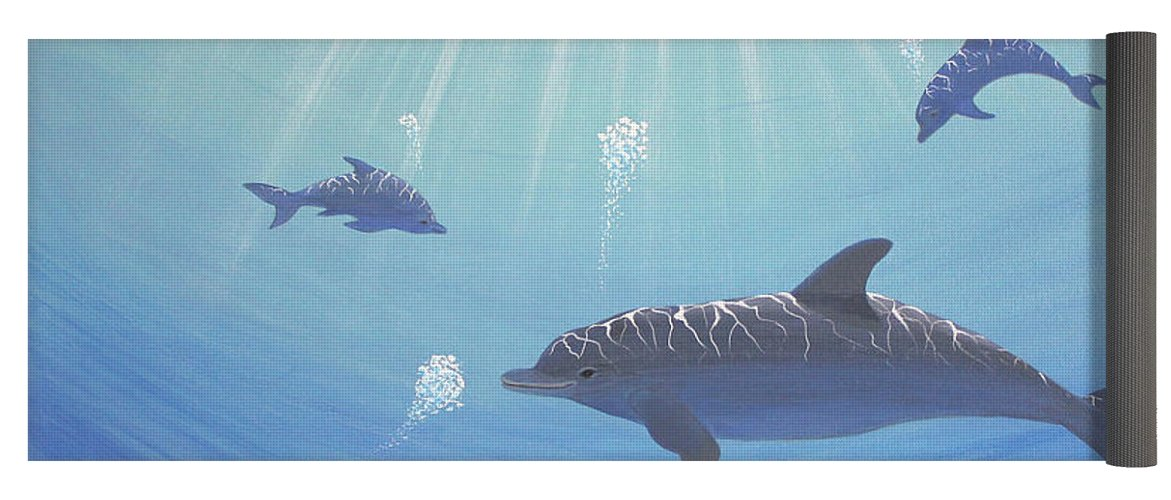dolphin: (511, 242, 1126, 458), (226, 149, 458, 249)
